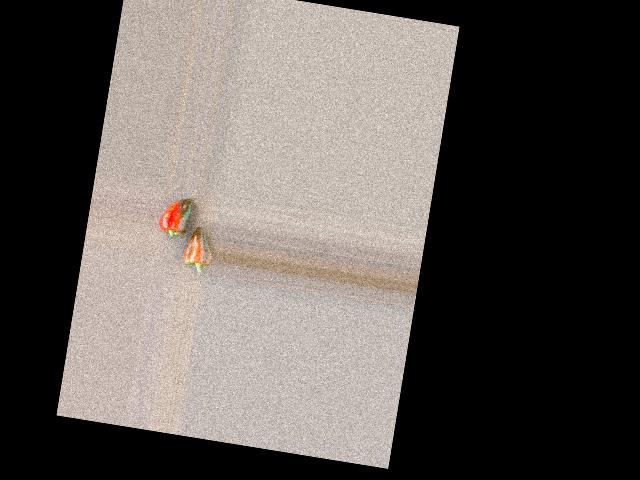bell_pepper: (153, 191, 196, 253)
